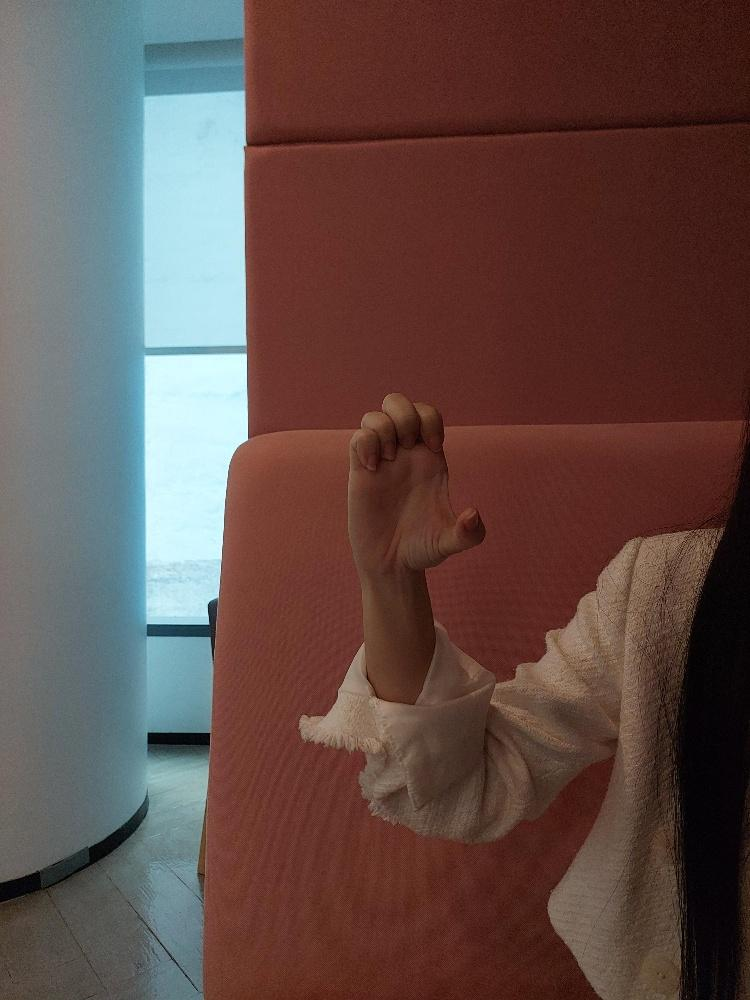e: (347, 389, 485, 567)
